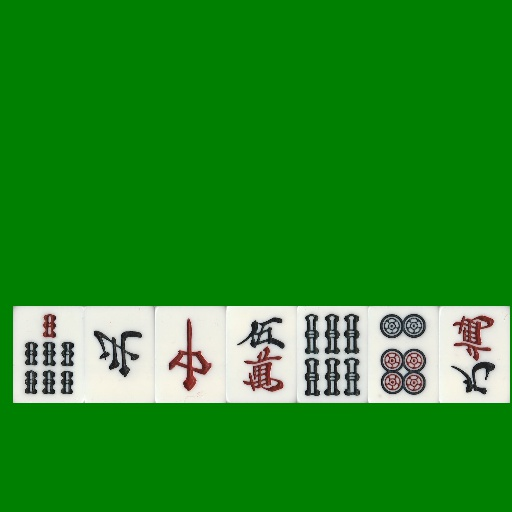5m: (226, 306, 297, 403)
6p: (368, 306, 439, 403)
6s: (297, 306, 368, 403)
7s: (13, 306, 84, 403)
9m: (439, 306, 510, 403)
north: (84, 306, 155, 403)
tyun: (155, 306, 226, 403)
